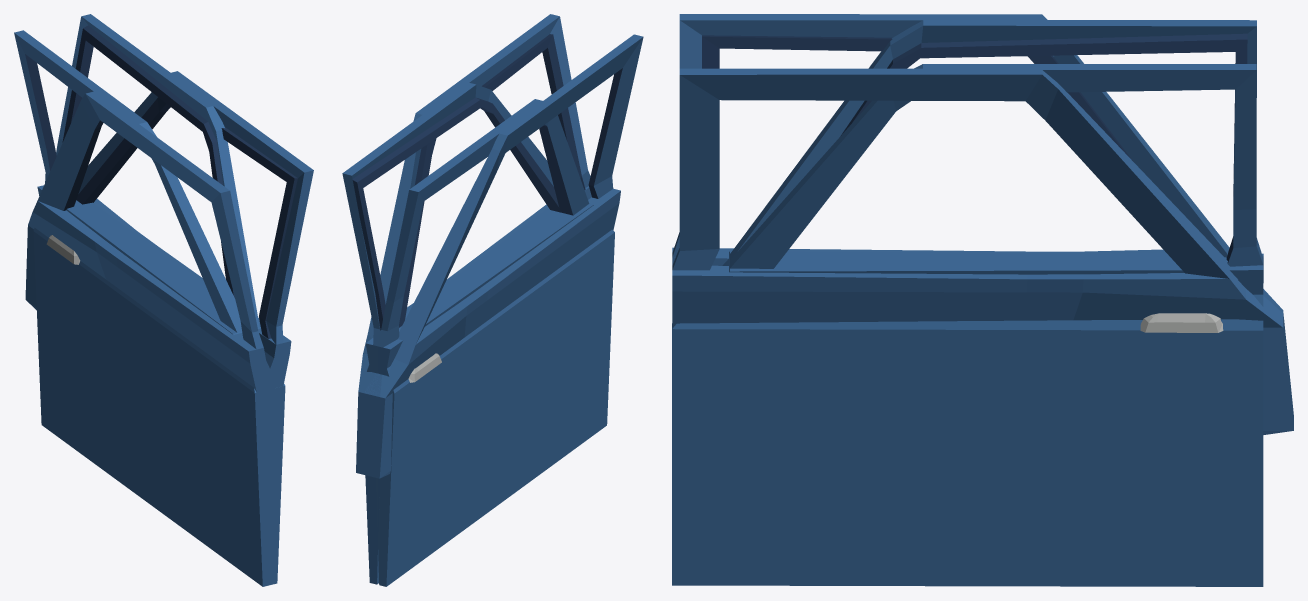
File: Doors t2.fbx
3 renders of one model, left to right at view 1: azimuth 30°, elevation 25°; view 2: azimuth 150°, elevation 25°; view 3: azimuth 270°, elevation 25°, orthographic. The views are drawn at different scales.
Visible parts, largest first — view 1: f_door_t2_2, b_door_t2_2, f_door_t2_1, b_door_t2_1; view 2: f_door_t2_2, b_door_t2_2, f_door_t2_1, b_door_t2_1; view 3: f_door_t2_1, b_door_t2_1, f_door_t2_2, b_door_t2_2.
Part boxes in pixels (x1,y1,x2,y2): f_door_t2_2: (33,14,269,586); b_door_t2_2: (25,91,276,584); f_door_t2_1: (14,30,285,584); b_door_t2_1: (76,71,313,573); f_door_t2_2: (342,83,614,586); b_door_t2_2: (363,34,643,478); f_door_t2_1: (365,99,593,584); b_door_t2_1: (356,14,591,476); f_door_t2_1: (672,19,1263,586); b_door_t2_1: (672,68,1293,434); f_door_t2_2: (724,64,1263,294); b_door_t2_2: (672,14,1293,424).
Size of the model in its own units: 19.41 by 79.69 by 83.73.
